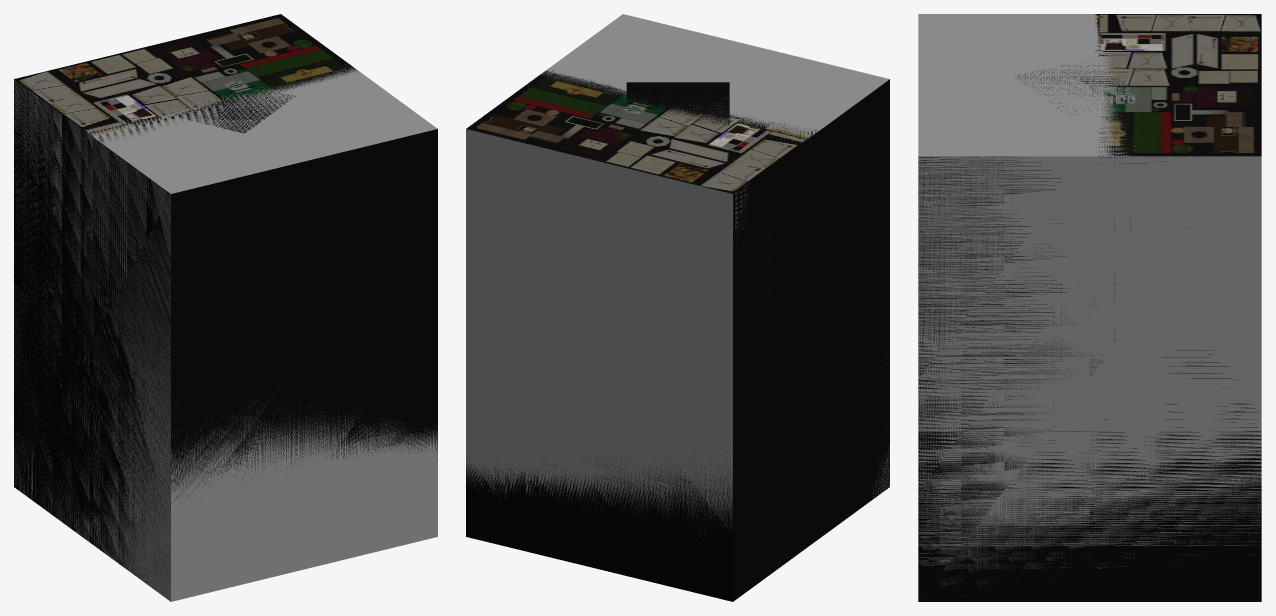
The model's file is milk_carton.FBX.
3 views of the same model, side by side, from view 1: azimuth 30°, elevation 25°; view 2: azimuth 150°, elevation 25°; view 3: azimuth 270°, elevation 25° (orthographic). The views are drawn at different scales.
Visible parts, largest first — view 1: colbox-1, bounds, milk_carton100; view 2: bounds, colbox-1, milk_carton100; view 3: bounds, colbox-1, milk_carton100.
Part boxes in pixels (x1=…): colbox-1: x1=14, y1=14, x2=437, y2=582; bounds: x1=14, y1=64, x2=437, y2=601; milk_carton100: x1=178, y1=90, x2=295, y2=133; bounds: x1=466, y1=14, x2=889, y2=531; colbox-1: x1=466, y1=70, x2=889, y2=601; milk_carton100: x1=626, y1=82, x2=729, y2=125; bounds: x1=918, y1=14, x2=1261, y2=584; colbox-1: x1=918, y1=14, x2=1261, y2=601; milk_carton100: x1=1017, y1=53, x2=1126, y2=115.
Size of the model in its own units: 14.39 by 21.01 by 14.66.
